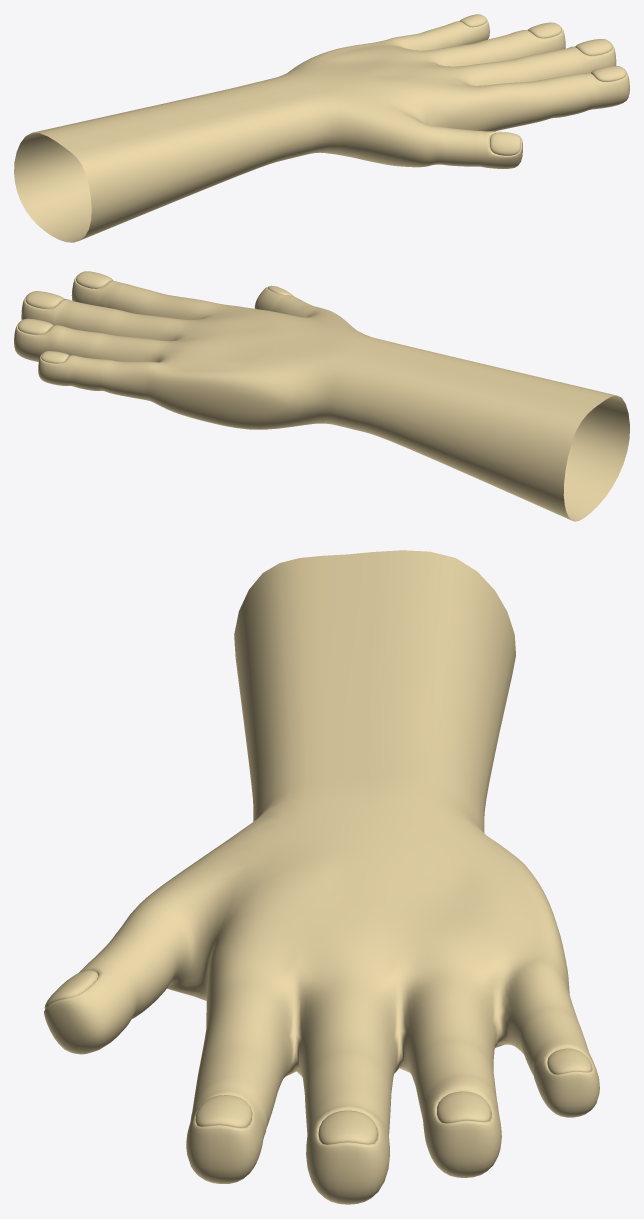
File: mao esquerda.fbx
3 views of the same model, one above another, from view 1: azimuth 30°, elevation 25°; view 2: azimuth 150°, elevation 25°; view 3: azimuth 270°, elevation 25° (orthographic). The views are drawn at different scales.
Visible parts, largest first — view 1: MAO2 ESQUERDA; view 2: MAO2 ESQUERDA; view 3: MAO2 ESQUERDA.
Part boxes in pixels (x1,y1,x2,y2): MAO2 ESQUERDA: [14, 14, 629, 242]; MAO2 ESQUERDA: [14, 271, 629, 521]; MAO2 ESQUERDA: [44, 550, 599, 1204].
Size of the model in its own units: 20.41 by 3.4 by 8.83.
